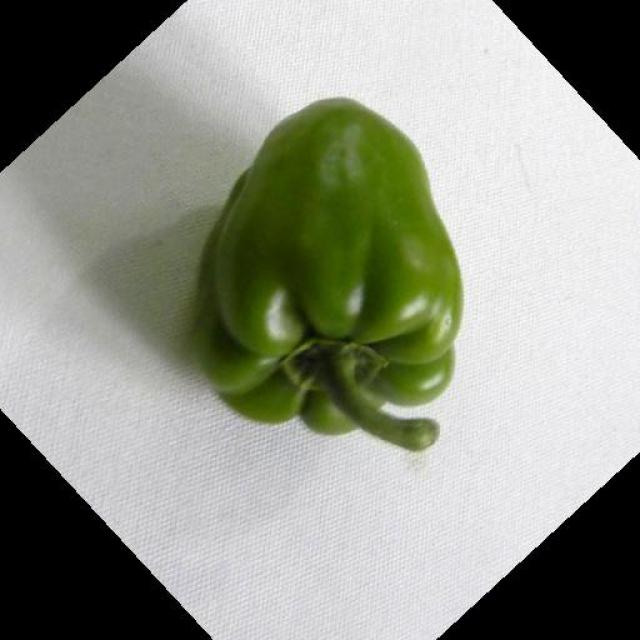Fresh_Capsicum: (214, 157, 462, 436)
